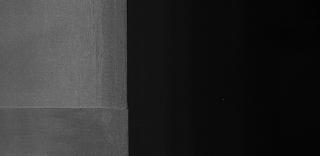welding line: (3, 103, 132, 115)
